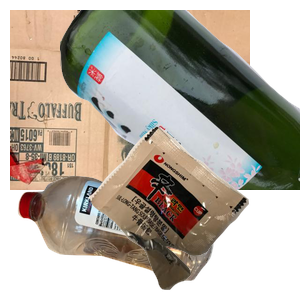cardboard: (10, 10, 250, 190)
glass: (60, 10, 300, 190)
plastic: (15, 173, 222, 300)
trash: (86, 124, 300, 300)
